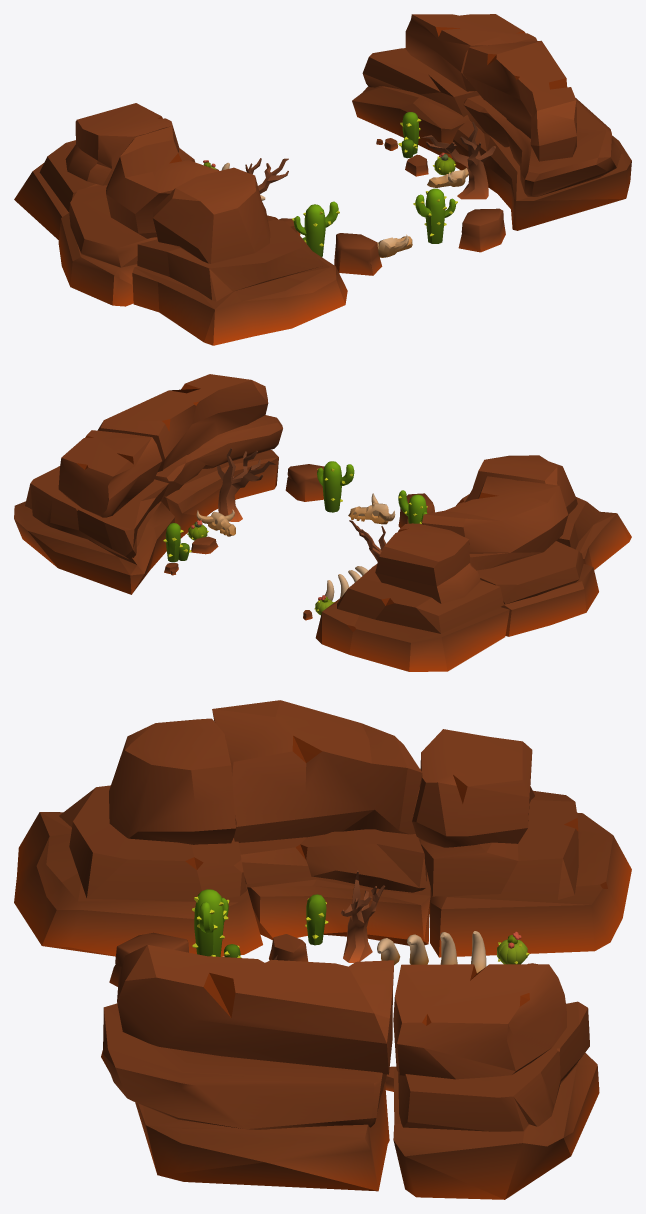
The picture shows the model from 3 angles, top to bottom: view 1: azimuth 30°, elevation 25°; view 2: azimuth 150°, elevation 25°; view 3: azimuth 270°, elevation 25°; orthographic projection. The views are drawn at different scales.
Parts seen in each view (by area): view 1: Map02_Environment; view 2: Map02_Environment; view 3: Map02_Environment.
Boxes of the visible parts, <box> form: Map02_Environment: <box>14,14,631,345</box>; Map02_Environment: <box>14,374,631,671</box>; Map02_Environment: <box>14,700,631,1199</box>.
Bounding box in the file's own units: 49.17 × 10.42 × 33.25.
1 material, 1 textured.
